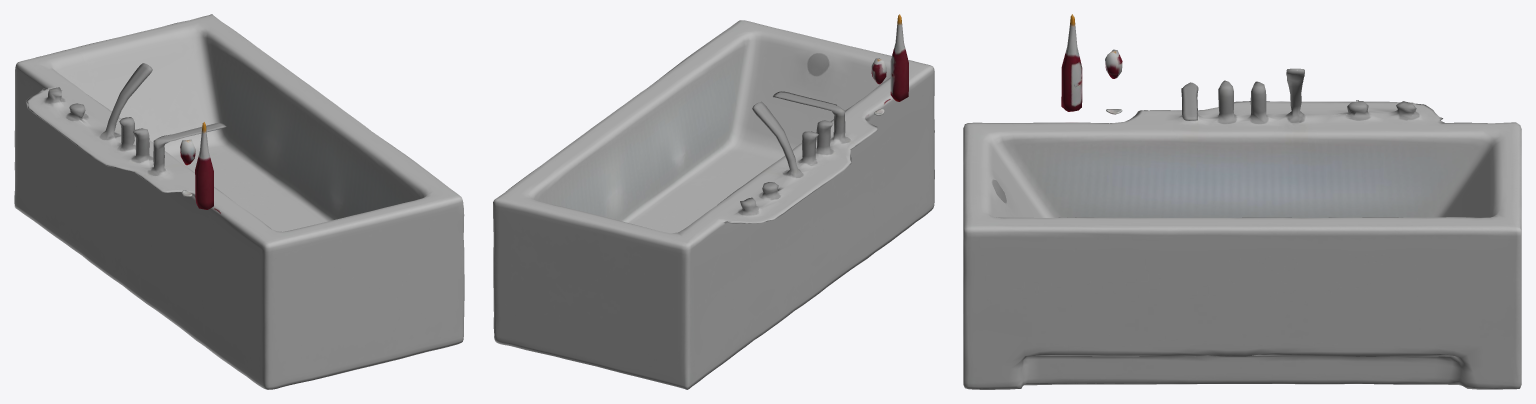
File: bathtub.fbx
The picture shows the model from 3 angles, left to right: view 1: azimuth 30°, elevation 25°; view 2: azimuth 150°, elevation 25°; view 3: azimuth 270°, elevation 25°; orthographic projection. The views are drawn at different scales.
Parts seen in each view (by area): view 1: tripo_node_7517539a; view 2: tripo_node_7517539a; view 3: tripo_node_7517539a.
Part boxes in pixels (x1,y1,x2,y2): tripo_node_7517539a: (14, 14, 464, 389); tripo_node_7517539a: (493, 14, 934, 389); tripo_node_7517539a: (963, 14, 1521, 389).
Bounding box in the file's own units: 0.5445 × 0.5195 × 0.9998.
1 material, 1 textured.
